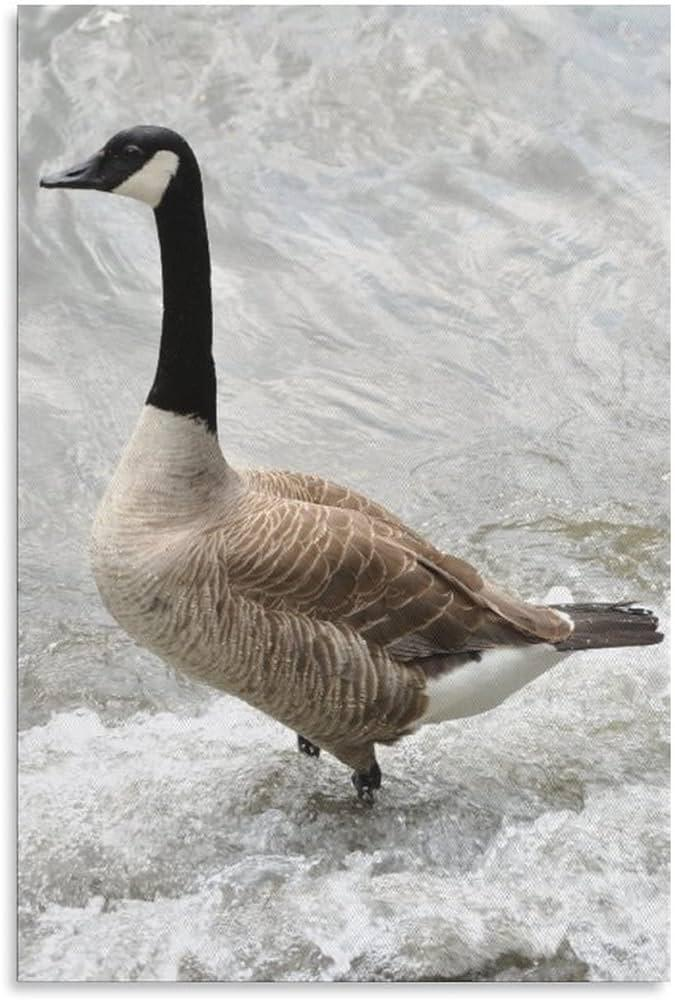Canadian-Goose: (42, 120, 664, 816)
